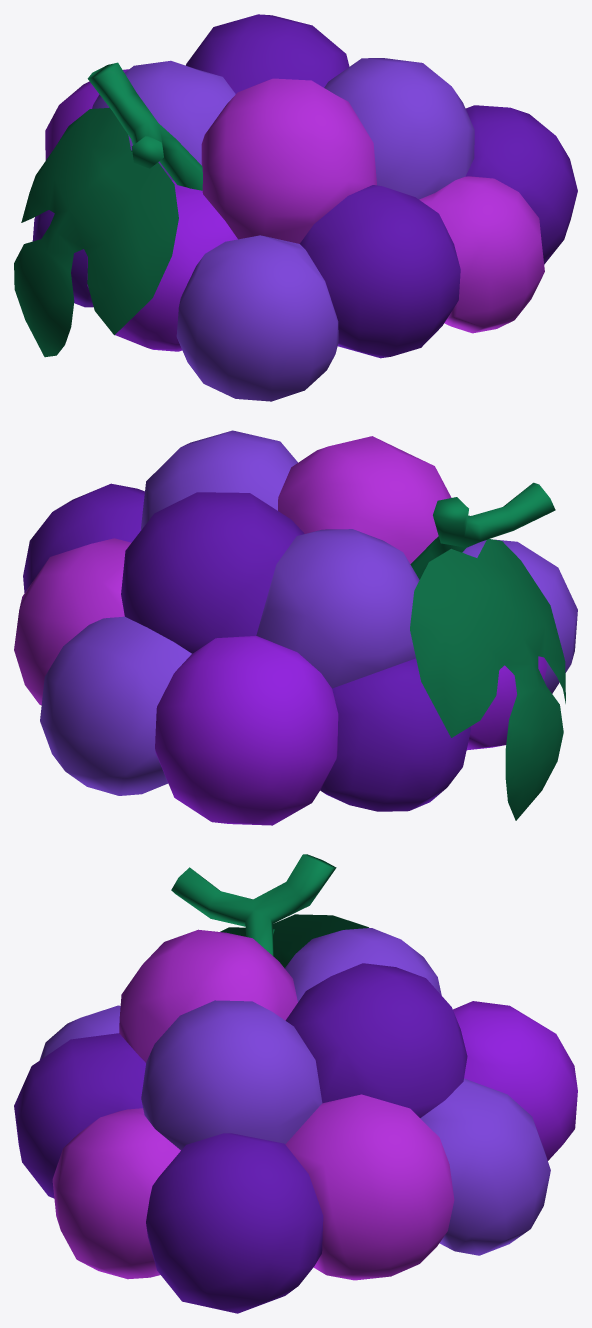
File: CapHatGrape.glb
The picture shows the model from 3 angles, top to bottom: view 1: azimuth 30°, elevation 25°; view 2: azimuth 150°, elevation 25°; view 3: azimuth 270°, elevation 25°; orthographic projection. The views are drawn at different scales.
Parts seen in each view (by area): view 1: Body__mCap; view 2: Body__mCap; view 3: Body__mCap.
Part boxes in pixels (bbox=[...]): Body__mCap: bbox=[14, 14, 577, 401]; Body__mCap: bbox=[14, 430, 577, 825]; Body__mCap: bbox=[14, 854, 577, 1313].
Size of the model in its own units: 10.97 by 5.85 by 10.25.
Materials: 1 (1 with a texture image).
